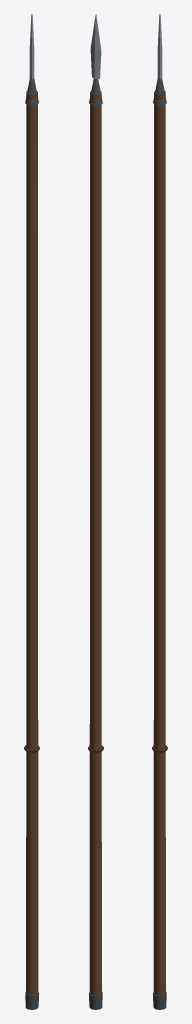
File: pike.glb
3 renders of one model, left to right at view 1: azimuth 90°, elevation 25°; view 2: azimuth 150°, elevation 25°; view 3: azimuth 270°, elevation 25°, orthographic.
Parts seen in each view (by area): view 1: pike-shaft, pike-head, pike-socket, pike-butt-cap; view 2: pike-shaft, pike-head, pike-socket, pike-butt-cap; view 3: pike-shaft, pike-head, pike-socket, pike-butt-cap.
Boxes of the visible parts, bbox=[...] form: pike-shaft: bbox=[26, 91, 38, 995]; pike-head: bbox=[29, 14, 34, 79]; pike-socket: bbox=[25, 78, 38, 105]; pike-butt-cap: bbox=[25, 992, 39, 1009]; pike-shaft: bbox=[89, 91, 101, 995]; pike-head: bbox=[90, 14, 101, 78]; pike-socket: bbox=[89, 78, 102, 105]; pike-butt-cap: bbox=[88, 992, 102, 1009]; pike-shaft: bbox=[153, 91, 165, 995]; pike-head: bbox=[157, 14, 162, 79]; pike-socket: bbox=[153, 78, 166, 105]; pike-butt-cap: bbox=[152, 992, 166, 1009].
Size of the model in its own units: 0.0324 by 2.18 by 0.0324.
